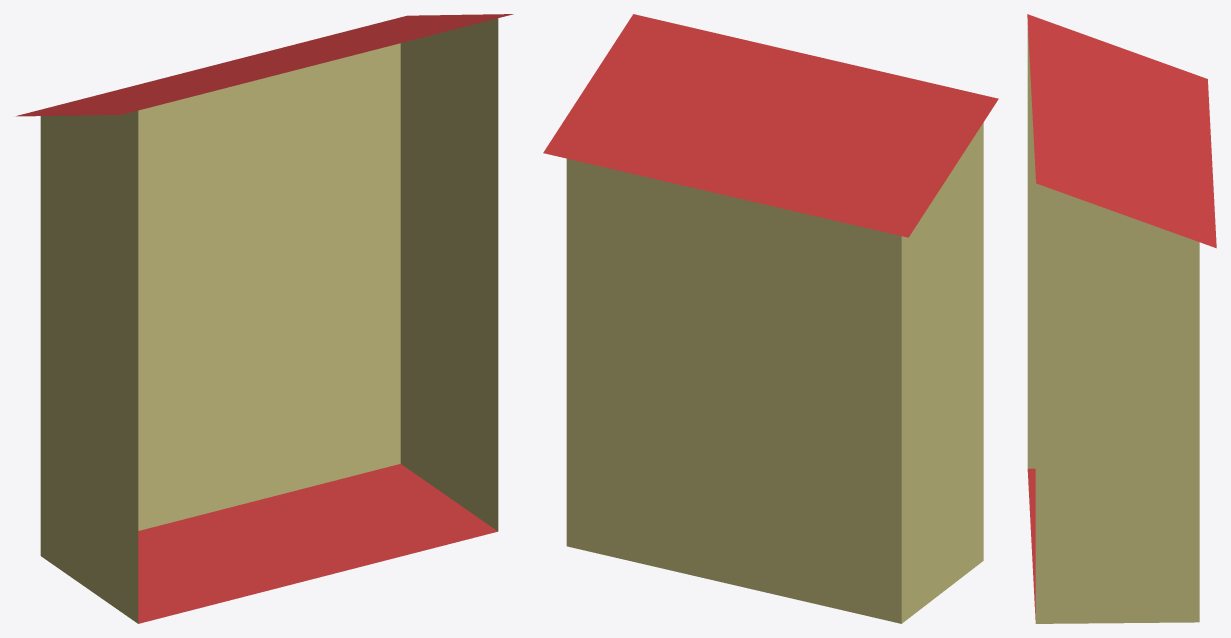
3 renders of one model, left to right at view 1: azimuth 30°, elevation 25°; view 2: azimuth 150°, elevation 25°; view 3: azimuth 270°, elevation 25°, orthographic. The views are drawn at different scales.
Size of the model in its own units: 6.01 by 2.81 by 7.34.
